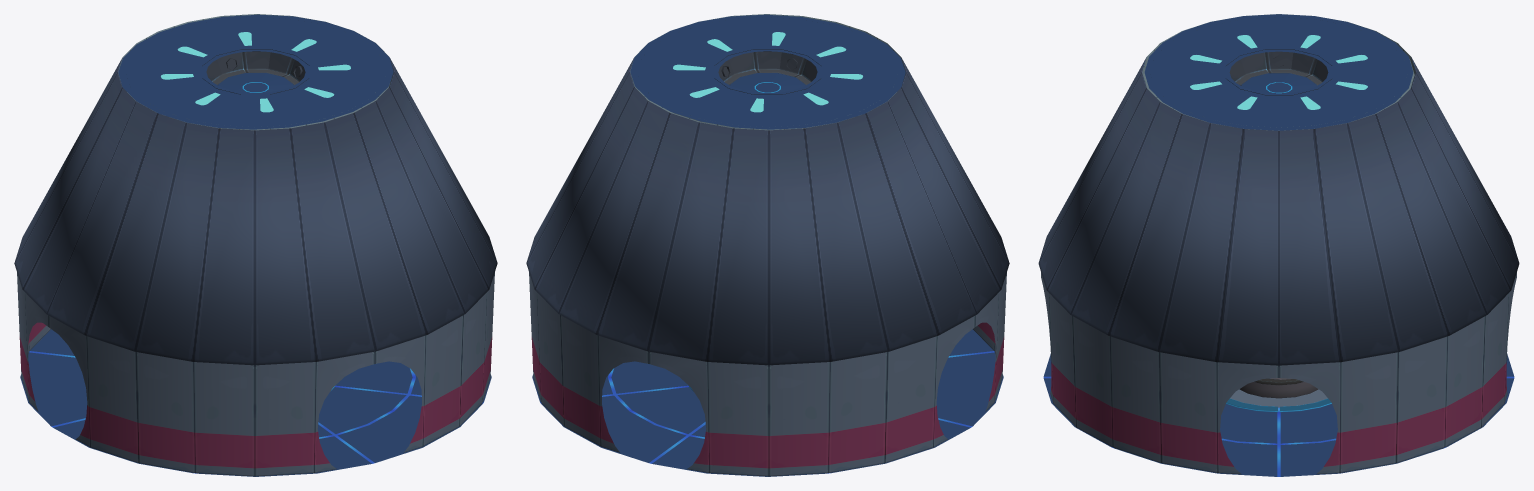
File: S5_BattleShip_Internal_01_Lod1.fbx
3 renders of one model, left to right at view 1: azimuth 30°, elevation 25°; view 2: azimuth 150°, elevation 25°; view 3: azimuth 270°, elevation 25°, orthographic.
Parts seen in each view (by area): view 1: S5_BattleShip_Internal_01_Lod1; view 2: S5_BattleShip_Internal_01_Lod1; view 3: S5_BattleShip_Internal_01_Lod1.
Boxes of the visible parts, <box> form: S5_BattleShip_Internal_01_Lod1: <box>14,14,497,476</box>; S5_BattleShip_Internal_01_Lod1: <box>526,14,1009,476</box>; S5_BattleShip_Internal_01_Lod1: <box>1038,14,1519,476</box>.
Size of the model in its own units: 2749 by 1931 by 2737.
